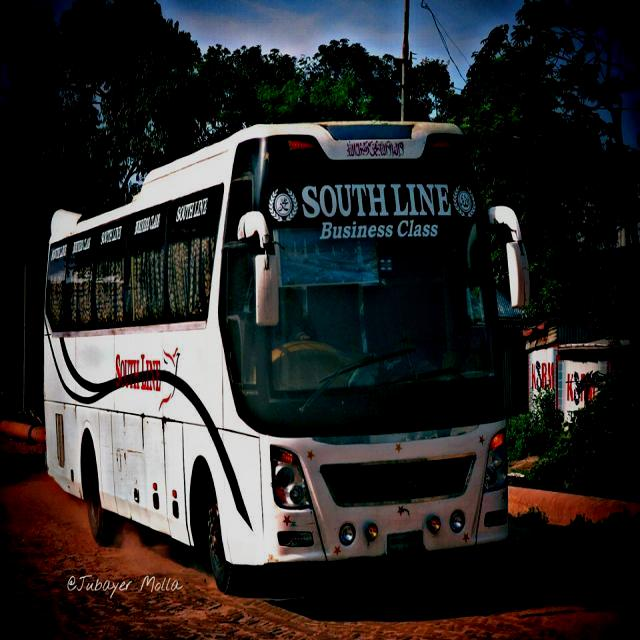bus: (44, 118, 533, 597)
